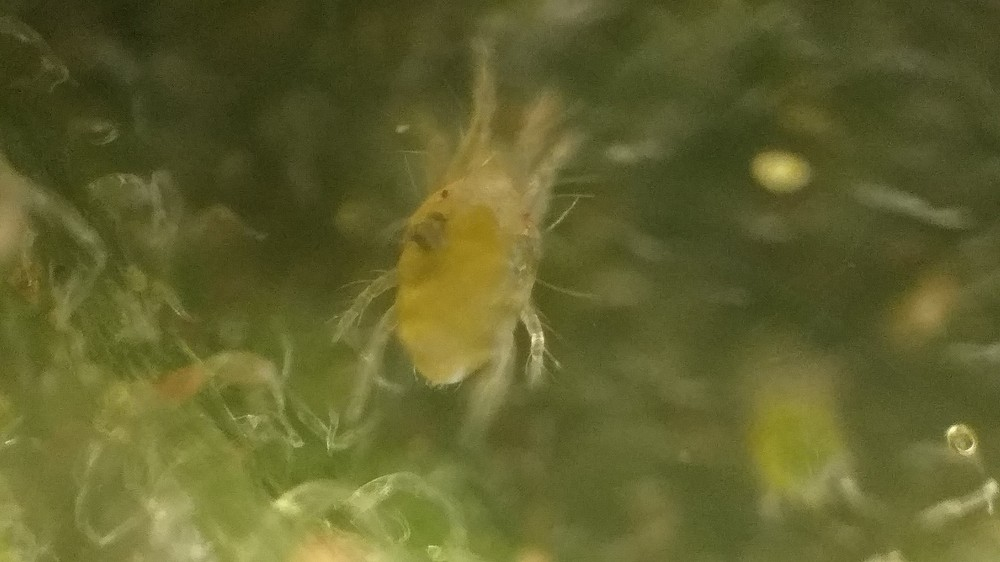Aracnido Rojo: (309, 37, 604, 448)
